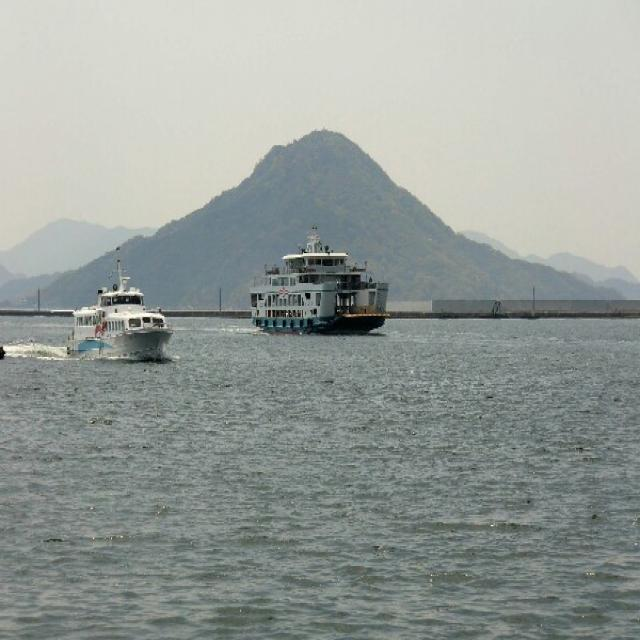passenger ship: (69, 279, 170, 360), (225, 228, 245, 239)
